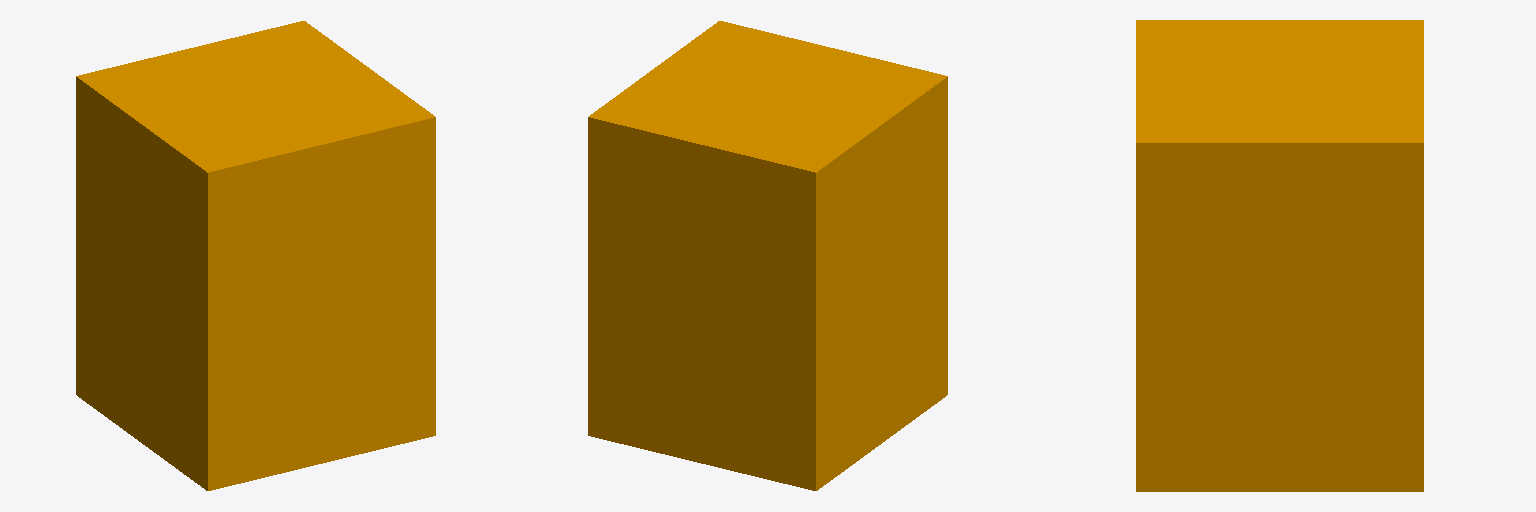
The robot description file, URDF, robot "pawnB3":
<?xml version="1.0"?>
<robot name="pawnB3">
  <link name="base_link">
   <visual>
     <origin xyz="0 0 0" rpy="0 0 0" />
       <geometry>
        <mesh filename="visual/pawnB3.dae" scale="0.6 0.6 0.8"/>
      </geometry>
   </visual>
   <collision>
     <origin xyz="0 0 0" rpy="0 0 0" />
       <geometry>
   	  <box size="0.03 0.03 0.04" />
       </geometry>
    </collision>
  </link>
</robot>

--- What the picture shows (computed from the rendered views, not written in the file) ---
Views: 3 orthographic renders of the robot side by side, from view 1: azimuth 30°, elevation 25°; view 2: azimuth 150°, elevation 25°; view 3: azimuth 270°, elevation 25°.
Robot: pawnB3 — 1 links, 0 joints (none); root link base_link; default pose: every joint at zero.
Visible links, largest first — view 1: base_link; view 2: base_link; view 3: base_link.
Boxes of the visible links, x1,y1,x2,y2 form: base_link: (76,21,435,490); base_link: (588,21,947,490); base_link: (1136,20,1423,491).
Bounding box of the posed robot: 0.03 × 0.03 × 0.04 m (x, y, z).
1 mesh visuals loaded from 1 distinct referenced files (1 Collada DAE).
